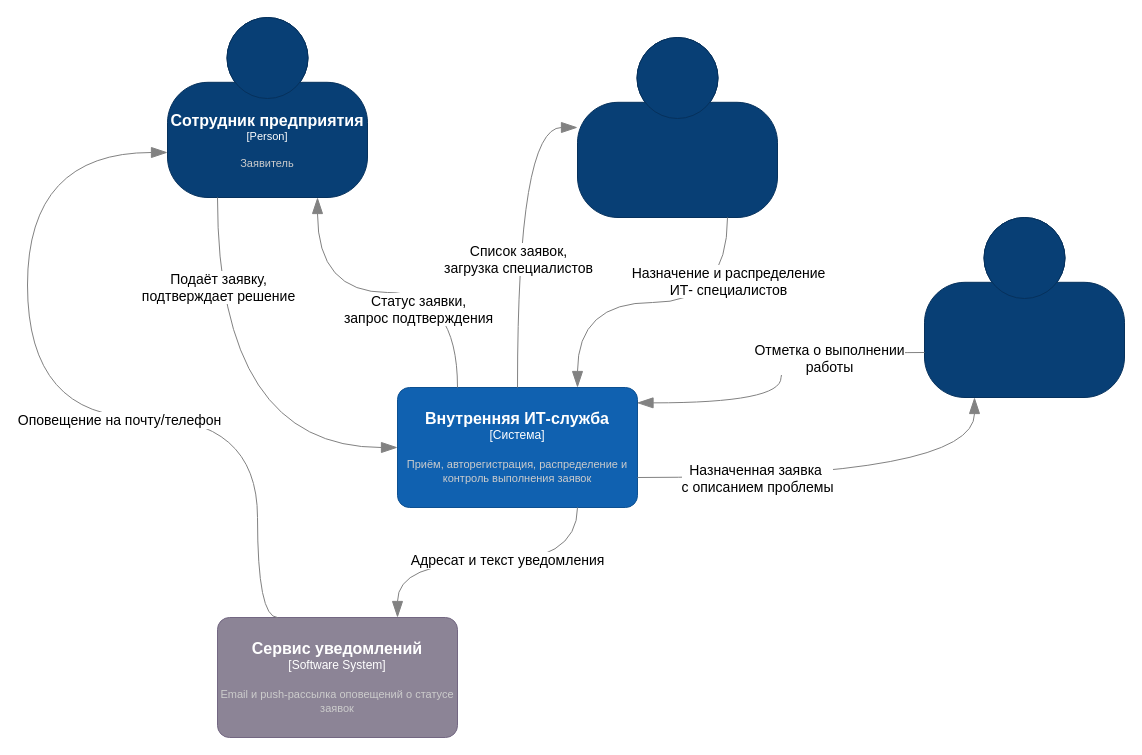
Some shapes in this 1142 by 755 pixel diagram are drawn without their labels. The centre of each missing label's shape, as x and y in pixels:
"ИТ-специалист [Person] Инженер техподдержки" goes at [1024,307].
"Оператор ИТ-службы [Person] Диспетчер" goes at [677,127].
